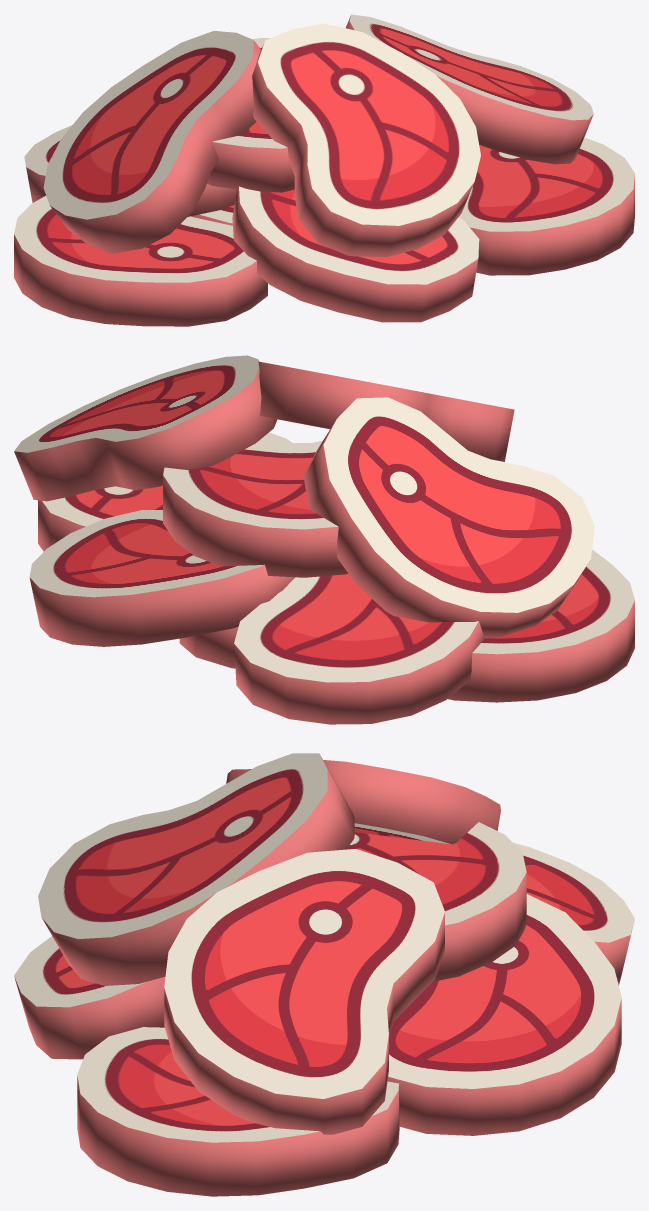
File: meat-stack.glb
3 views of the same model, one above another, from view 1: azimuth 30°, elevation 25°; view 2: azimuth 150°, elevation 25°; view 3: azimuth 270°, elevation 25° (orthographic). The views are drawn at different scales.
Parts seen in each view (by area): view 1: meat-stack; view 2: meat-stack; view 3: meat-stack.
Boxes of the visible parts, bbox=[...] form: meat-stack: bbox=[14, 14, 634, 326]; meat-stack: bbox=[14, 355, 634, 724]; meat-stack: bbox=[14, 753, 634, 1196].
Bounding box in the file's own units: 2.6 × 0.9465 × 2.09.
Materials: 1 (1 with a texture image).
